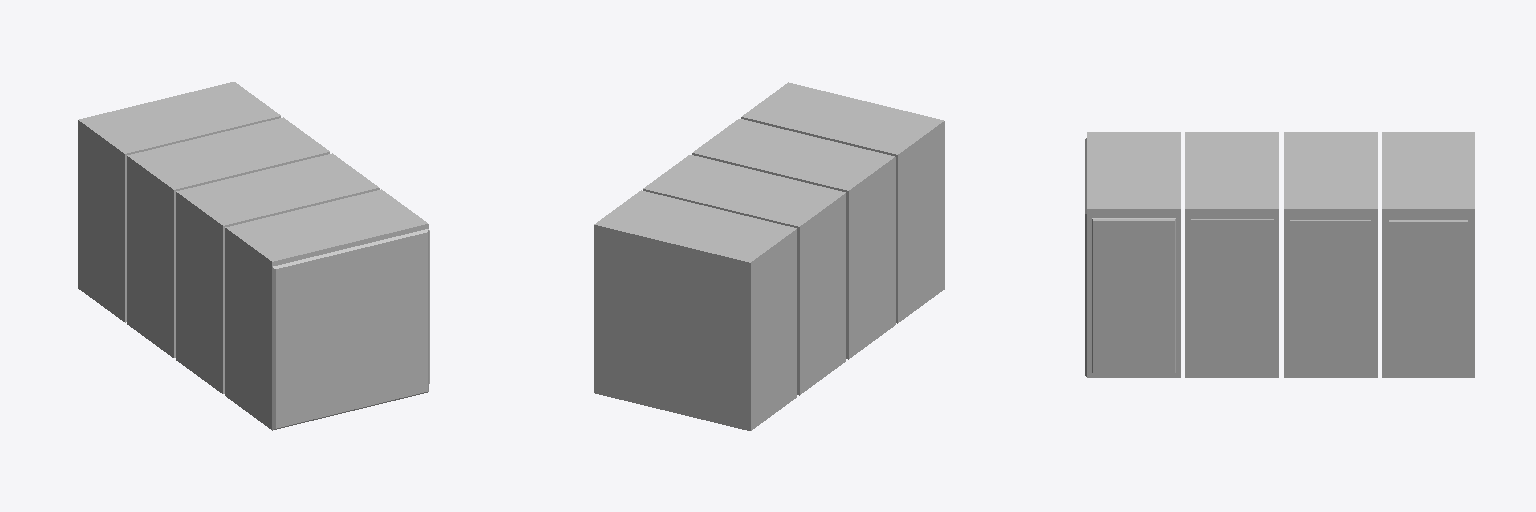
3 views of the same model, side by side, from view 1: azimuth 30°, elevation 25°; view 2: azimuth 150°, elevation 25°; view 3: azimuth 270°, elevation 25° (orthographic).
Parts seen in each view (by area): view 1: server; view 2: server; view 3: server.
Part boxes in pixels (left/top/right/bottom): server: left=78, top=82, right=429, bottom=430; server: left=594, top=82, right=944, bottom=430; server: left=1085, top=132, right=1474, bottom=377.
Bounding box in the file's own units: 205 × 206 × 433.